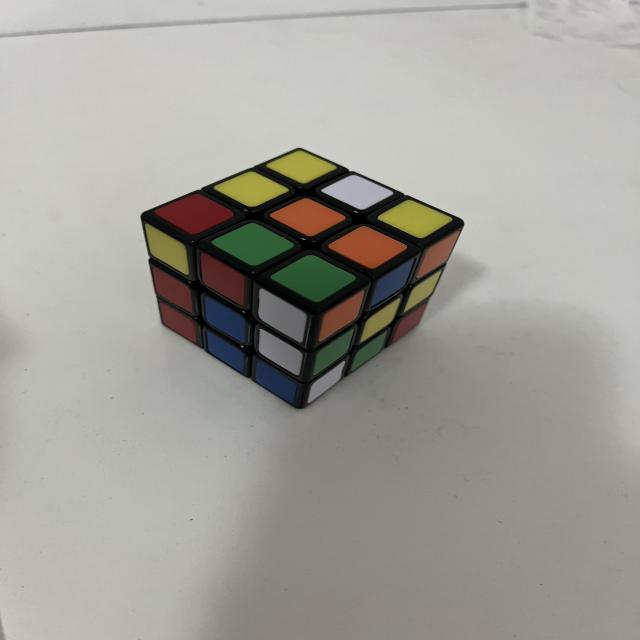blue: (360, 256, 425, 309), (248, 358, 304, 406), (198, 330, 253, 374)
center: (269, 186, 347, 248), (194, 294, 257, 345), (351, 294, 411, 344)
green: (269, 241, 357, 314), (210, 208, 295, 279), (303, 326, 363, 377), (342, 328, 395, 373)
orange: (327, 215, 408, 280), (307, 288, 375, 343), (406, 228, 470, 279)
red: (153, 181, 235, 246), (188, 251, 257, 307), (142, 265, 203, 314), (151, 300, 206, 345), (383, 300, 434, 344)
white: (320, 164, 394, 220), (246, 287, 316, 344), (249, 328, 310, 377), (300, 359, 352, 404)
yellow: (213, 159, 290, 220), (376, 190, 453, 247), (265, 139, 338, 194), (133, 223, 200, 276), (396, 268, 450, 313)
